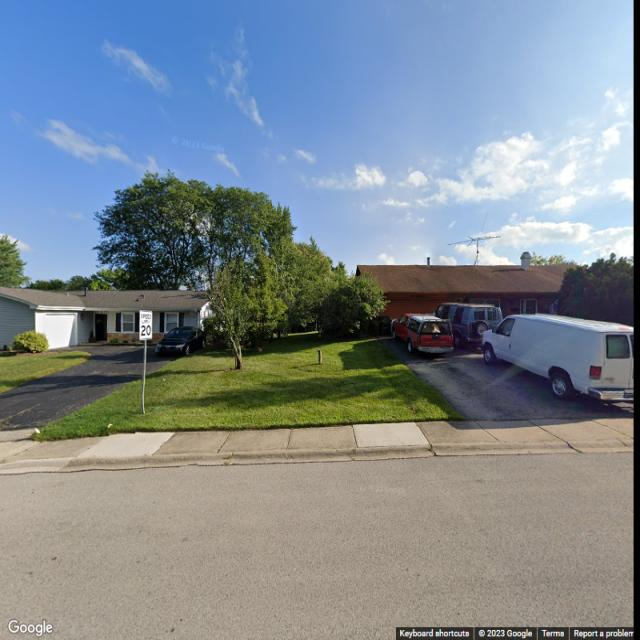House: (0, 289, 223, 350), (358, 266, 580, 327)
